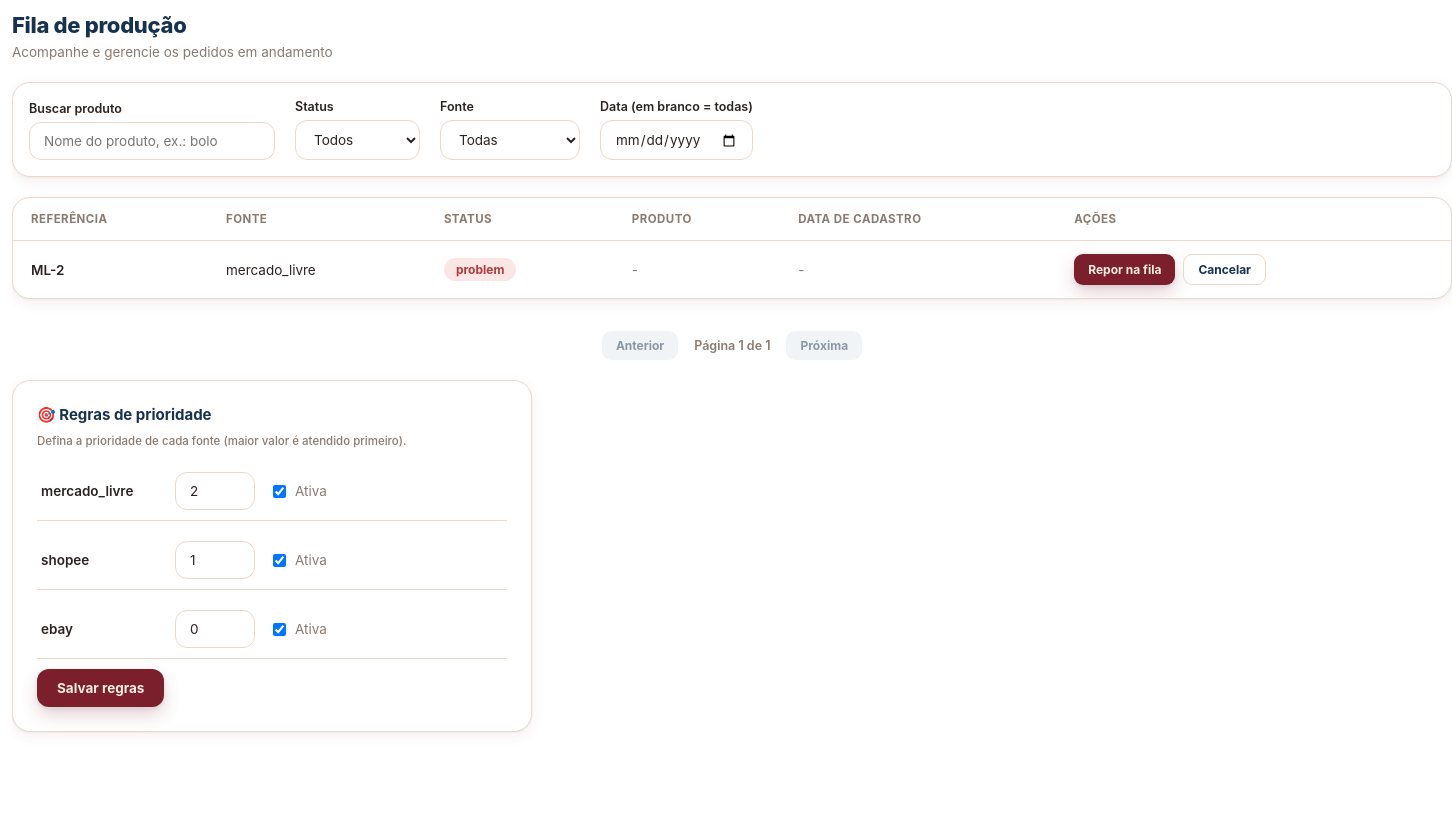
Test: QueueManagementScreen › mostra a mensagem do servidor quando repor na fila falha com um erro de domínio
Click the button with test id "requeue-item-2": (1125, 270) x1=1074 y1=254 x2=1175 y2=285
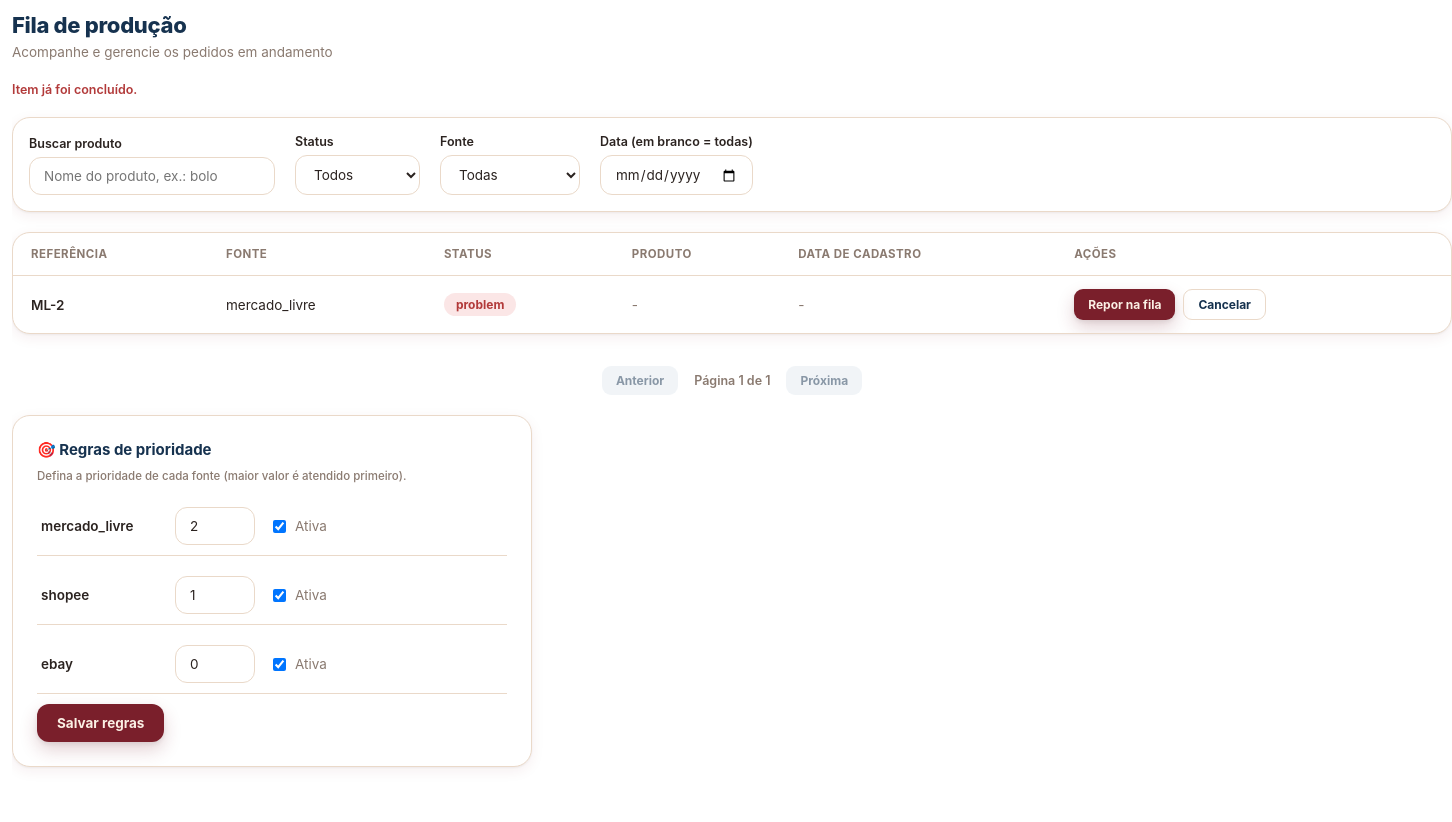
Expected: the text "Item já foi concluído." is shown, x1=12 y1=82 x2=137 y2=97
